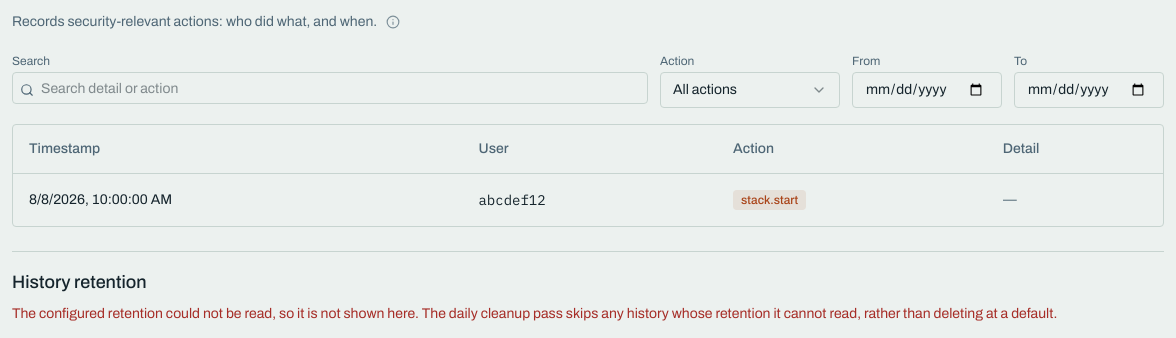
Test: AuditLogContent — filters › offers Clear only once a filter is active, and resets everything
Expected: the button "Clear" is not shown
Type "2026-08-01" into the date field labelled "From".
click(927, 90); type("2026-08-01")  # box x1=852 y1=72 x2=1002 y2=108
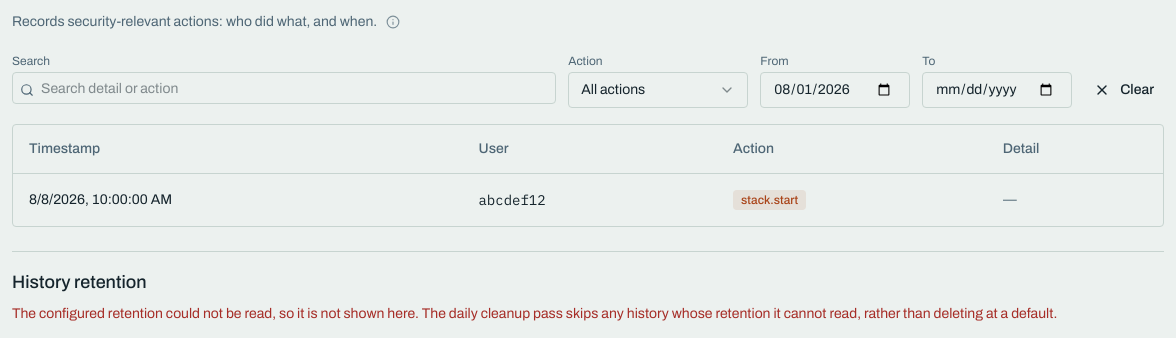
Click the button "Clear".
click(1124, 90)  # box x1=1084 y1=72 x2=1164 y2=108
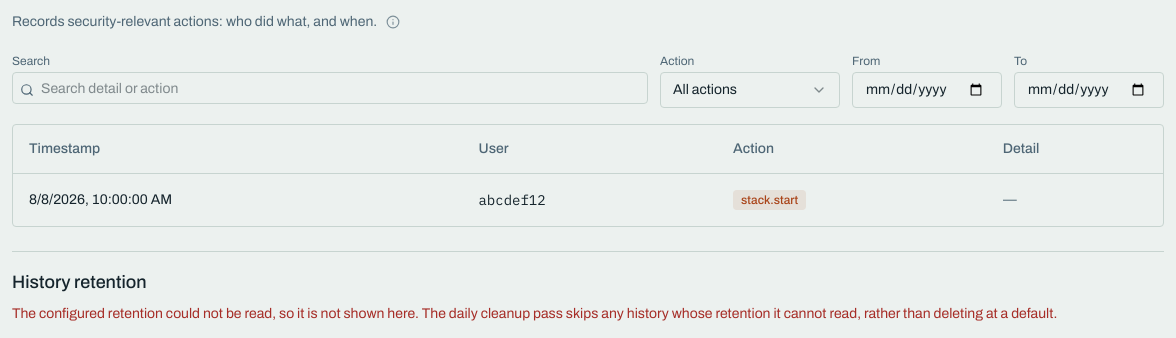
Expected: the date field labelled "From" is empty, x1=852 y1=72 x2=1002 y2=108
